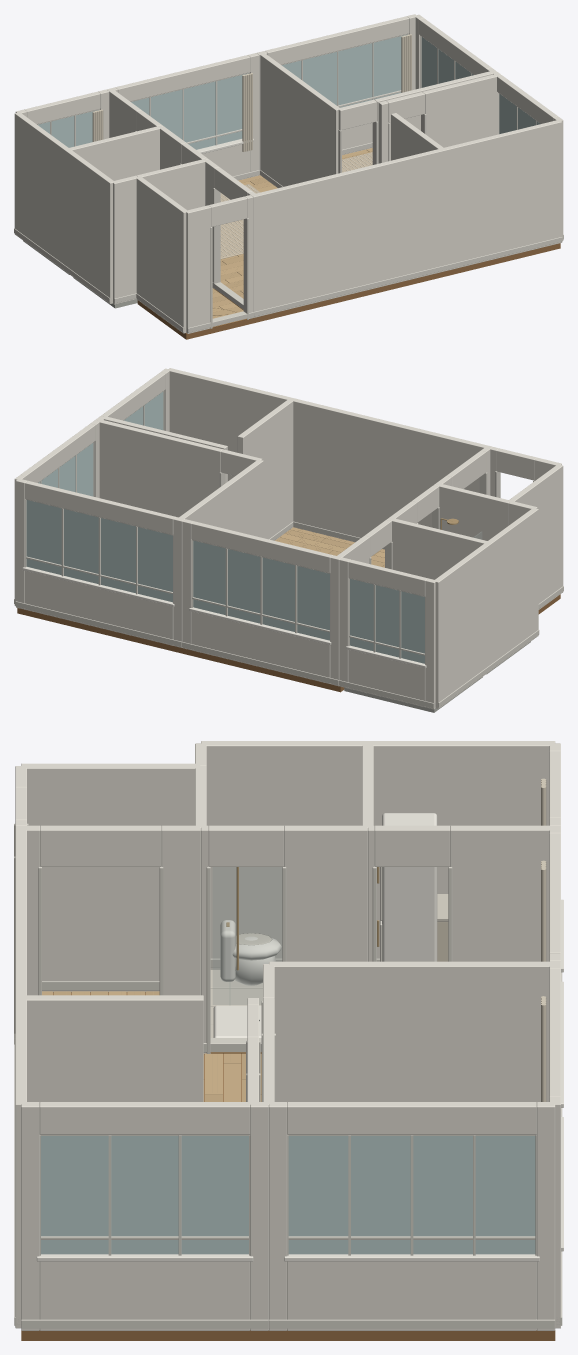
Rendered from old-home-shell.glb.
3 renders of one model, top to bottom at view 1: azimuth 30°, elevation 25°; view 2: azimuth 150°, elevation 25°; view 3: azimuth 270°, elevation 25°, orthographic. The views are drawn at different scales.
Visible parts, largest first — view 1: Plaster wall (×29), Pale glazing (×5), Skirting board (×3), Floor underlay (×2), Bound wool rug (×2), Door jamb (×2); view 2: Plaster wall (×29), Pale glazing (×5), Skirting board (×4), Floor underlay (×2), Stone window sill (×2); view 3: Plaster wall (×30), Pale glazing (×2), Shower glass screen, Skirting board (×3), Refrigerator, Floor underlay, Stone window sill (×2), Window rail (×2), Shower tray, Toilet cistern, Door jamb, Individual oak plank (+2 smaller).
Boxes of the visible parts, box(x1,y1,x2,y2) form: Plaster wall (×29): box(14, 14, 562, 333); Pale glazing (×5): box(38, 34, 540, 149); Skirting board (×3): box(14, 228, 562, 332); Floor underlay (×2): box(137, 243, 560, 339); Bound wool rug (×2): box(220, 152, 372, 259); Door jamb (×2): box(213, 188, 248, 319); Plaster wall (×29): box(16, 368, 563, 709); Pale glazing (×5): box(26, 392, 424, 663); Skirting board (×4): box(15, 601, 539, 708); Floor underlay (×2): box(17, 608, 482, 712); Stone window sill (×2): box(22, 567, 331, 645); Plaster wall (×30): box(15, 741, 560, 1330); Pale glazing (×2): box(41, 1136, 535, 1254); Shower glass screen: box(213, 867, 281, 1004); Skirting board (×3): box(21, 981, 555, 1328); Refrigerator: box(382, 813, 437, 961); Floor underlay: box(21, 1054, 555, 1340); Stone window sill (×2): box(36, 1254, 539, 1261); Window rail (×2): box(41, 1236, 535, 1239); Shower tray: box(213, 1005, 261, 1037); Toilet cistern: box(220, 920, 235, 981); Door jamb: box(206, 867, 210, 1053); Individual oak plank: box(205, 1053, 222, 1094).
Bounding box in the file's own units: 8.96 × 2.69 × 5.67.
